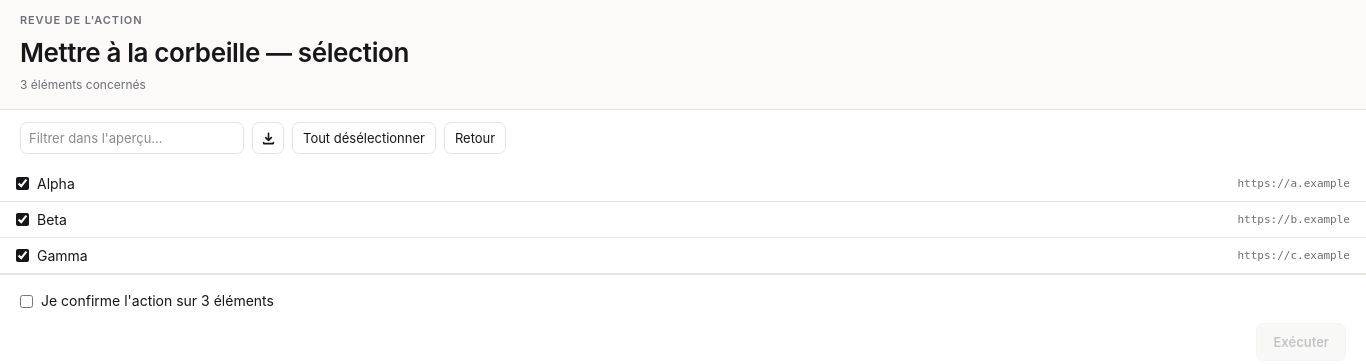
Test: ReviewPage — niveau 1 (corbeille) › désélectionne plusieurs lignes d'un seul geste peint
Press the mouse on the checkbox labelled "Alpha https://a.example" at (22, 184), box [16, 177, 29, 190]
Hover over the checkbox labelled "Beta https://b.example" at (22, 220), box [16, 213, 29, 226]
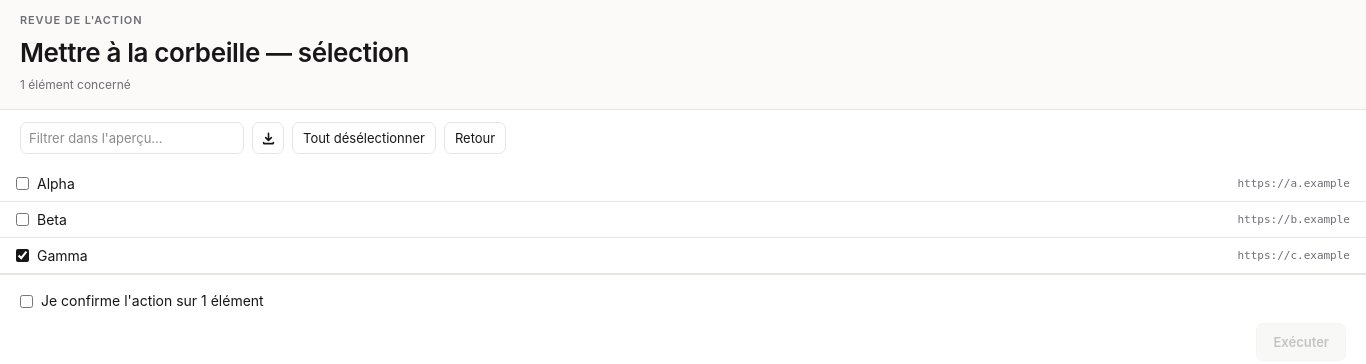
Hover over the checkbox labelled "Gamma https://c.example" at (22, 256), box [16, 249, 29, 262]
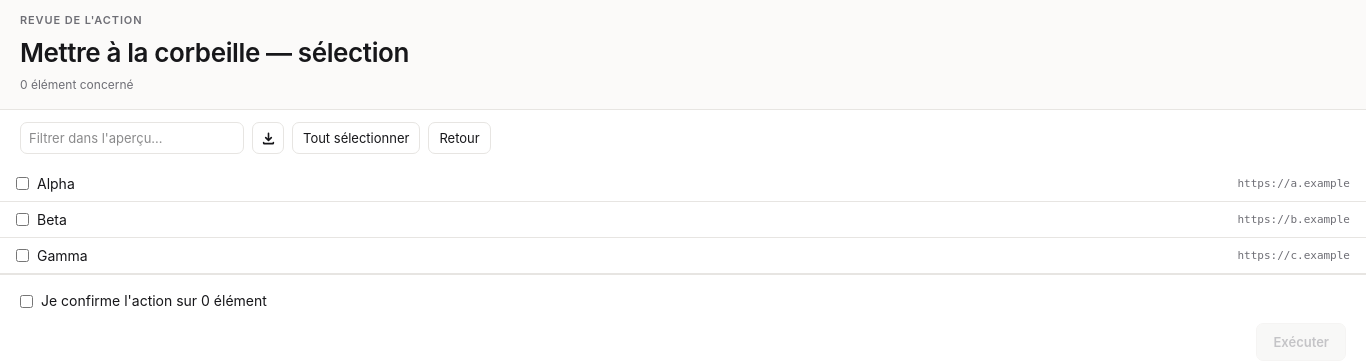
Check: the text "0 élément concerné" is shown, box [20, 77, 134, 92]
